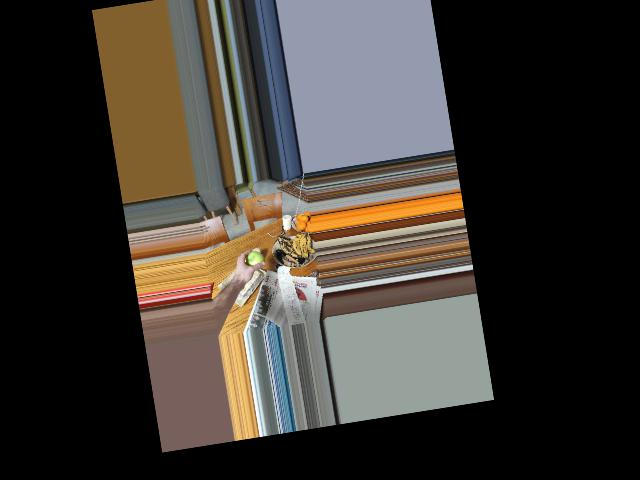apple: (242, 247, 266, 272)
